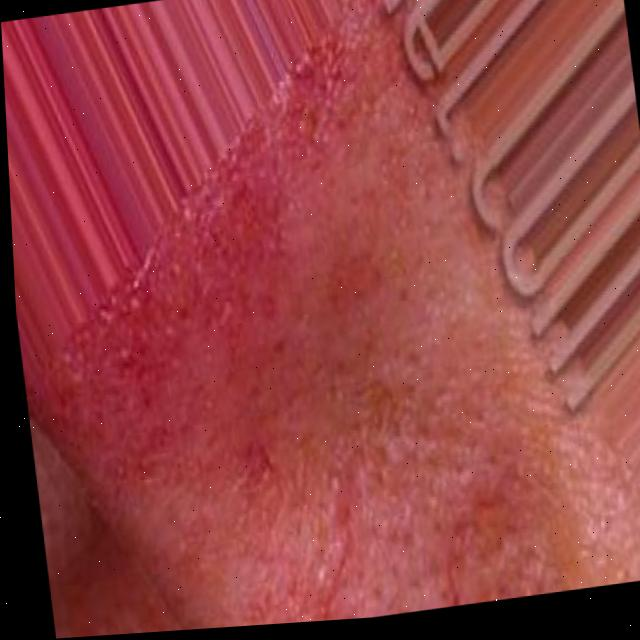Rosacea: (90, 80, 559, 634)
